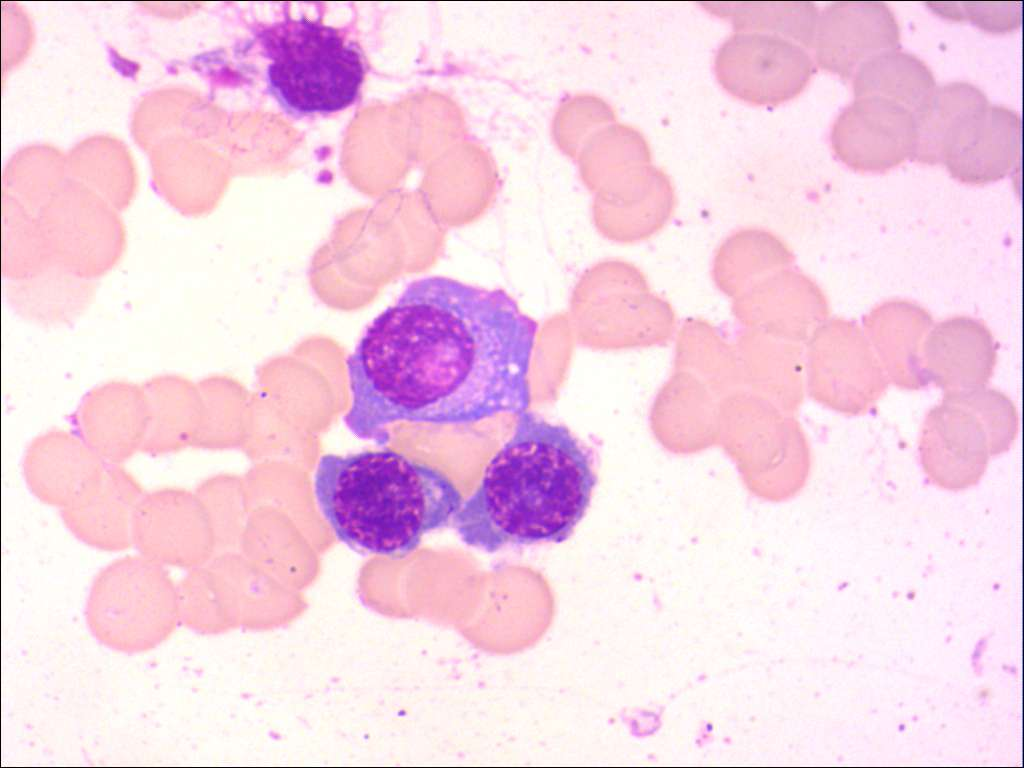23: (446, 406, 604, 560), (311, 444, 470, 563)
51: (337, 273, 542, 449)
x: (224, 13, 378, 128)
